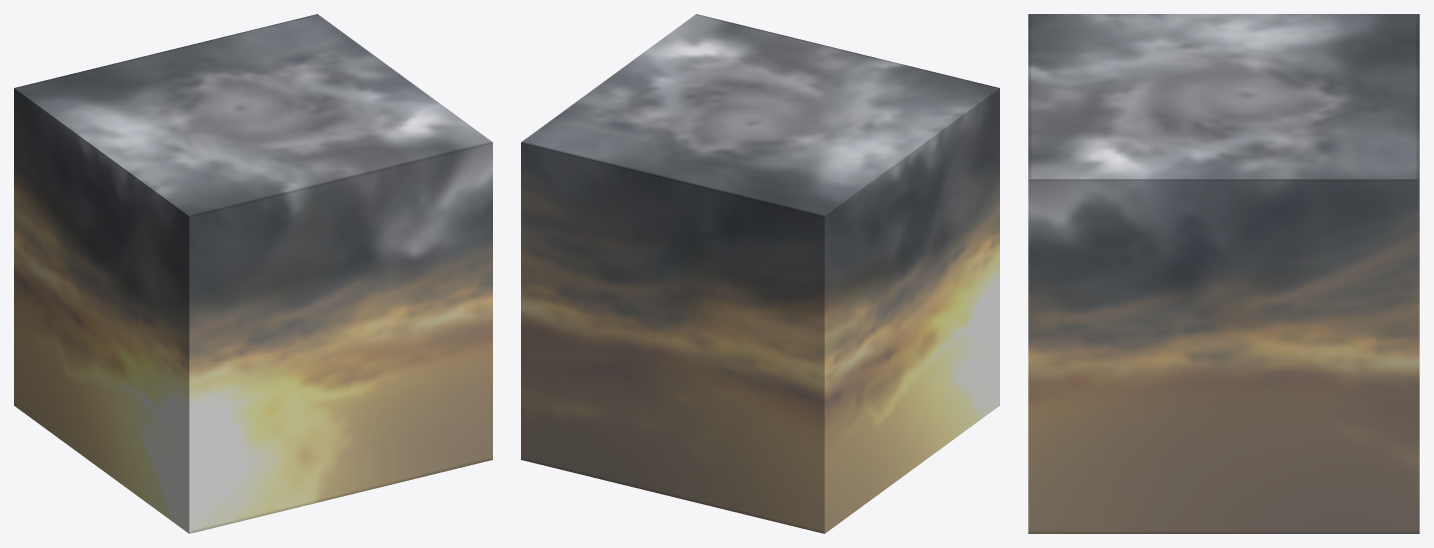
File: SKYSTORM.obj
The picture shows the model from 3 angles, left to right: view 1: azimuth 30°, elevation 25°; view 2: azimuth 150°, elevation 25°; view 3: azimuth 270°, elevation 25°; orthographic projection. The views are drawn at different scales.
Parts seen in each view (by area): view 1: Cube.001; view 2: Cube.001; view 3: Cube.001.
Part boxes in pixels (x1=…): Cube.001: x1=14, y1=14, x2=492, y2=533; Cube.001: x1=521, y1=14, x2=999, y2=533; Cube.001: x1=1028, y1=14, x2=1419, y2=533.
Size of the model in its own units: 455 by 455 by 455.
1 material, 1 textured.
